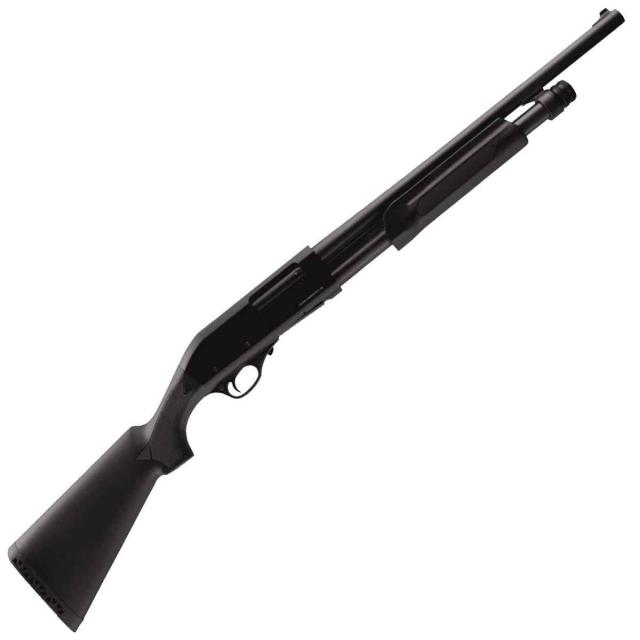ShotGun: (7, 9, 627, 634)
